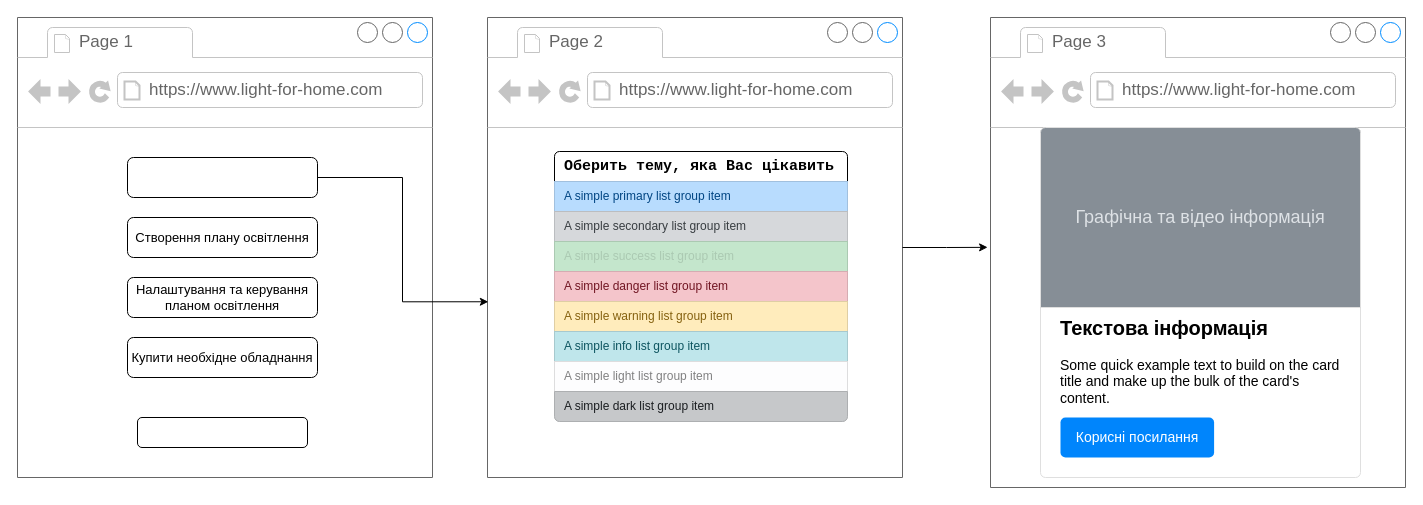
Some shapes in this 1423 by 505 pixel diagram are drawn without their labels. Each missing label, with the centre of its shape:
Авторизація / реєстрація: (x=222, y=432)
Вивчення інформації про освітлення: (x=222, y=177)
